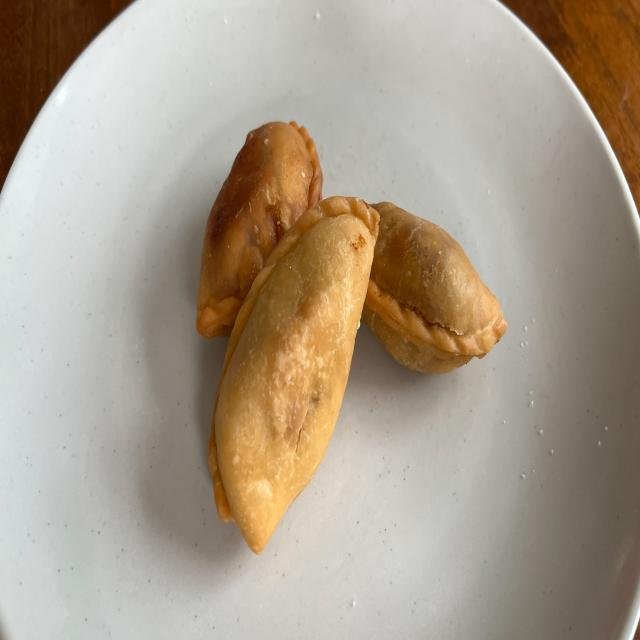karipap: (209, 196, 380, 553), (196, 122, 322, 338), (362, 202, 508, 373)
